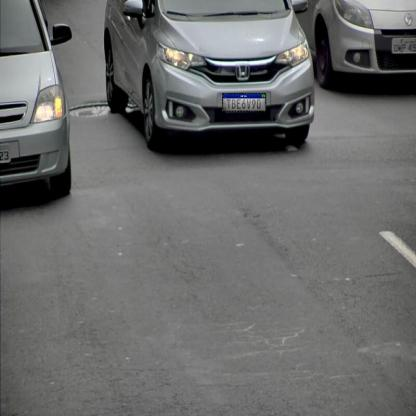PlacaM: (222, 93, 266, 112)
